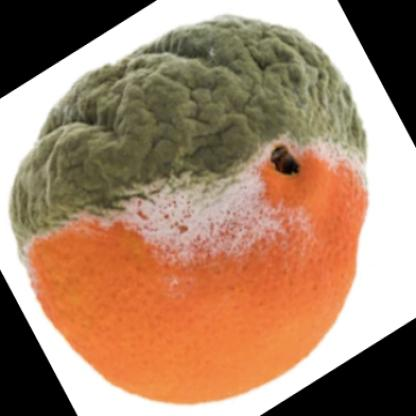rotten: (11, 15, 368, 401)
